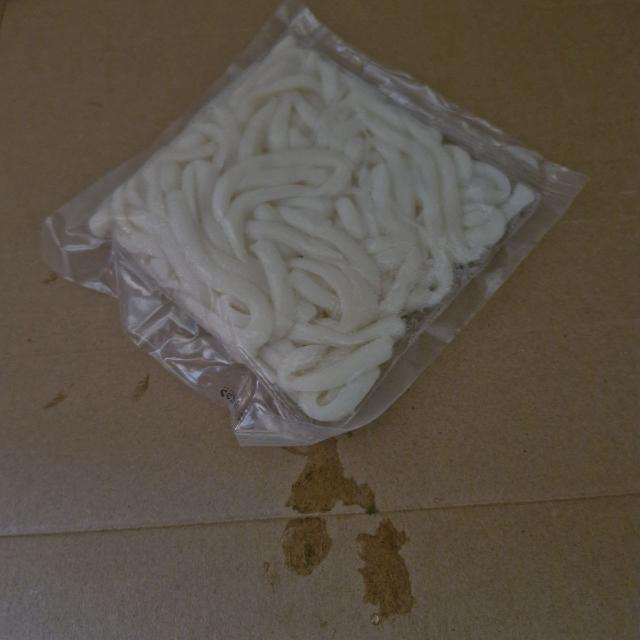food_waste: (92, 24, 542, 419)
plastic: (25, 0, 598, 480)
